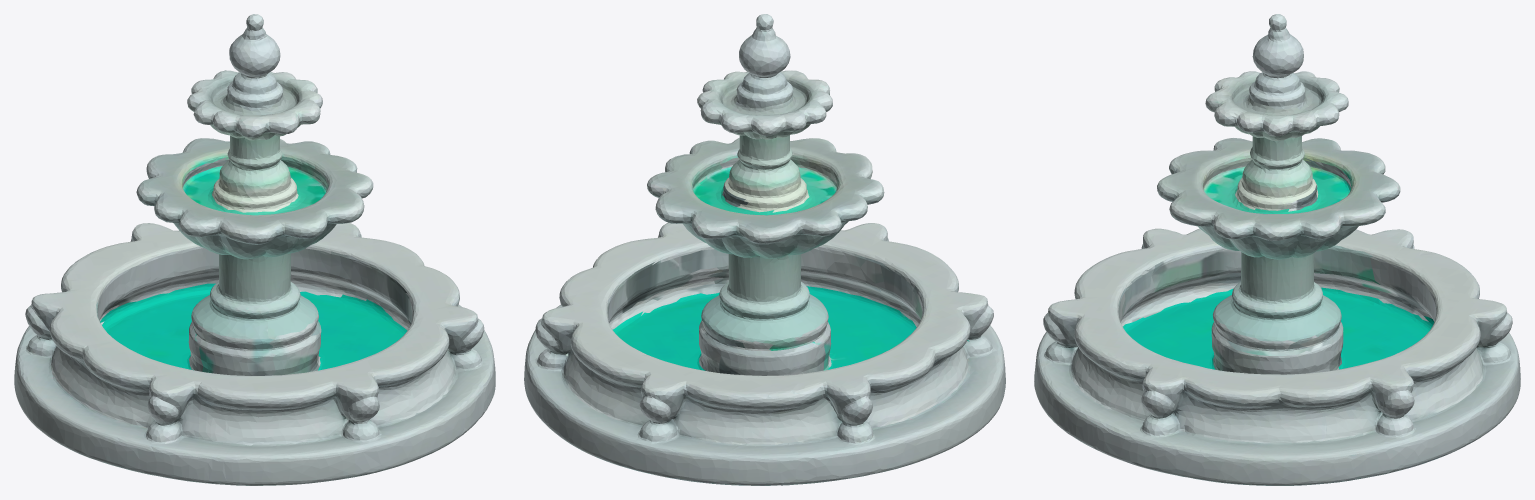
File: healing_sanctuary_fountain.glb
The picture shows the model from 3 angles, left to right: view 1: azimuth 30°, elevation 25°; view 2: azimuth 150°, elevation 25°; view 3: azimuth 270°, elevation 25°; orthographic projection.
Parts seen in each view (by area): view 1: tmpe77ejc9w.ply; view 2: tmpe77ejc9w.ply; view 3: tmpe77ejc9w.ply.
Part boxes in pixels (<box>): tmpe77ejc9w.ply: <box>14,14,495,485</box>; tmpe77ejc9w.ply: <box>524,14,1005,485</box>; tmpe77ejc9w.ply: <box>1034,14,1520,485</box>.
Bounding box in the file's own units: 1.99 × 1.68 × 1.99.
1 material, 1 textured.
